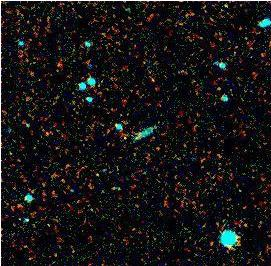star: (111, 126, 141, 156)
